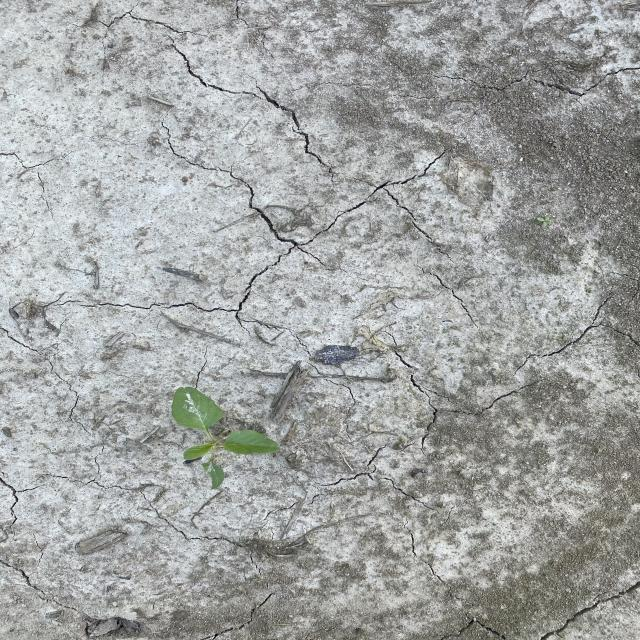PalmerAmaranth: (170, 386, 282, 492)
